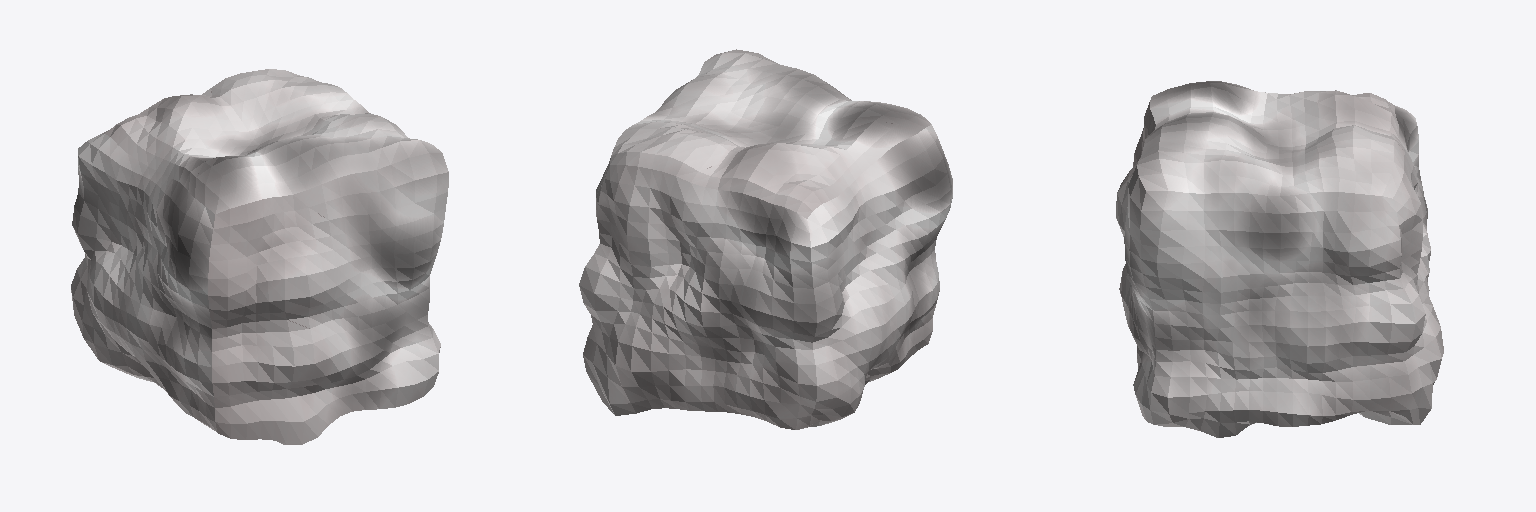
The picture shows the model from 3 angles: view 1: azimuth 30°, elevation 25°; view 2: azimuth 150°, elevation 25°; view 3: azimuth 270°, elevation 25°; orthographic projection.
Visible parts, largest first — view 1: Cube; view 2: Cube; view 3: Cube.
Boxes of the visible parts, <box> form: Cube: <box>71,69,448,444</box>; Cube: <box>579,49,952,429</box>; Cube: <box>1116,81,1443,437</box>.
Size of the model in its own units: 5.24 by 5.37 by 5.6.
Materials: 1 (1 with a texture image).